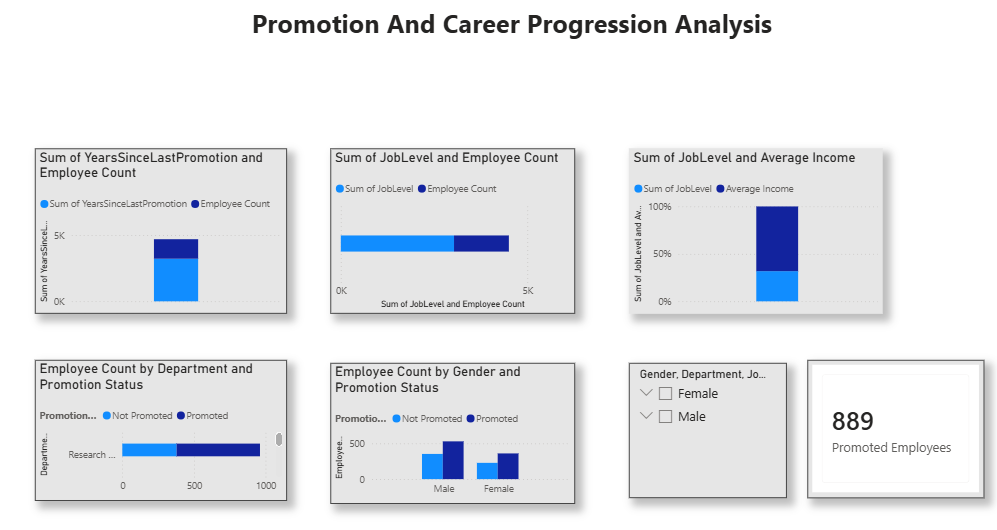

What the dashboard file says about the page in this screenshot:
{"tool":"powerbi","page":{"name":"Promotion And Career Progression Analysis","canvas":[1280,720],"ordinal":1},"visuals":[{"type":"cardVisual","fields":{"Data":["dataset.Promoted Employees"]},"box":[1026.1,464.9,223,173.9],"z":0},{"type":"lineClusteredColumnComboChart","fields":{"Category":["dataset.Gender"],"Y":["dataset.Employee Count"],"Series":["dataset.Promotion Status"]},"box":[425.2,468.7,308,177.6],"z":1000},{"type":"barChart","fields":{"Category":["dataset.Department"],"Y":["dataset.Employee Count"],"Series":["dataset.Promotion Status"]},"box":[52.9,464.9,317.5,177.6],"z":2000},{"type":"columnChart","fields":{"Y":["Sum(dataset.YearsSinceLastPromotion)","dataset.Employee Count"]},"box":[52.9,198.4,317.5,207.9],"z":3000},{"type":"barChart","fields":{"Y":["Sum(dataset.JobLevel)","dataset.Employee Count"]},"box":[425.2,198.4,308,207.9],"z":4000},{"type":"hundredPercentStackedColumnChart","fields":{"Y":["Sum(dataset.JobLevel)","dataset.Average Income"]},"box":[801.3,198.4,319.4,207.9],"z":5000},{"type":"slicer","fields":{"Values":["dataset.Gender","dataset.Department","dataset.JobRole"]},"box":[801.3,468.7,198.4,170.1],"z":6000},{"type":"textbox","box":[28.3,13.2,1251,128.5],"z":7000}]}

Visuals, with their boxes on the page's 1280x720 design canvas (x1, y1, x2, y2). These are canvas units, not pixel positions in the 997x530 screenshot, which may show the page scaled, cropped or inside an application window:
cardVisual - dataset.Promoted Employees: crop(1026, 465, 1249, 639)
lineClusteredColumnComboChart - dataset.Gender x dataset.Employee Count: crop(425, 469, 733, 646)
barChart - dataset.Department x dataset.Employee Count: crop(53, 465, 370, 642)
columnChart - Sum(dataset.YearsSinceLastPromotion) x dataset.Employee Count: crop(53, 198, 370, 406)
barChart - Sum(dataset.JobLevel) x dataset.Employee Count: crop(425, 198, 733, 406)
hundredPercentStackedColumnChart - Sum(dataset.JobLevel) x dataset.Average Income: crop(801, 198, 1121, 406)
slicer - dataset.Gender x dataset.Department: crop(801, 469, 1000, 639)
textbox: crop(28, 13, 1279, 142)
